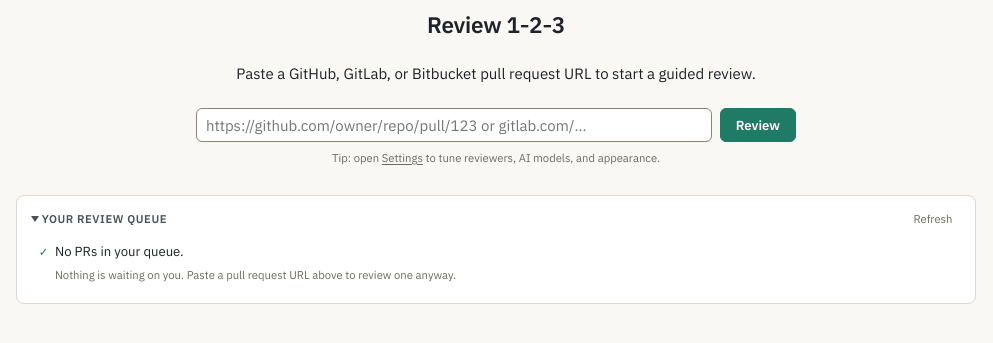
Test: Landing queue section › refresh from the empty state shows skeletons (no rows to keep)
Expected: the text "No PRs in your queue" is shown, x1=55 y1=243 x2=184 y2=260
Click the button with aria-label "refresh queue" at (933, 219), box x1=906 y1=208 x2=960 y2=230
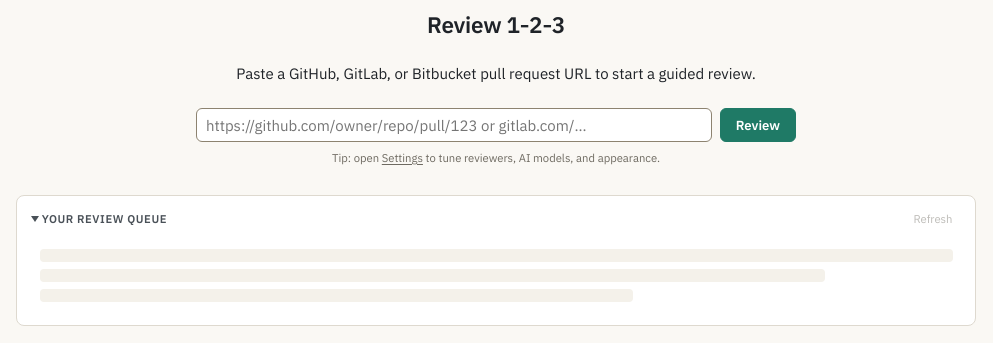
Expected: the text "No PRs in your queue" is gone
